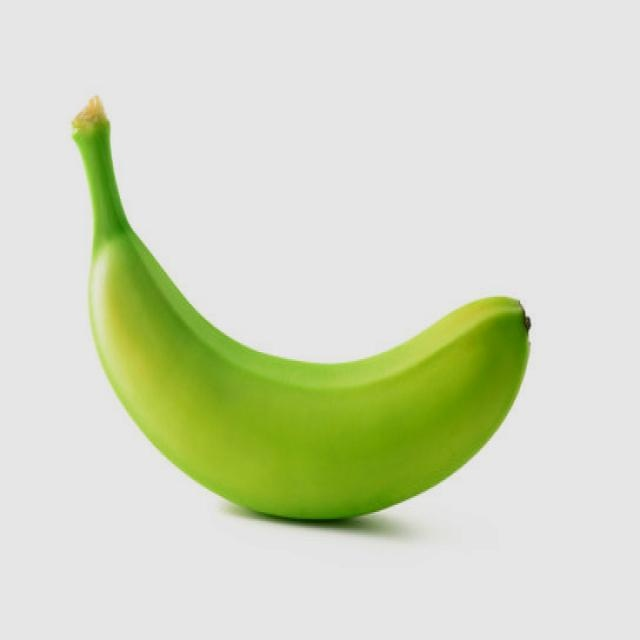agrume: (71, 96, 529, 520)
